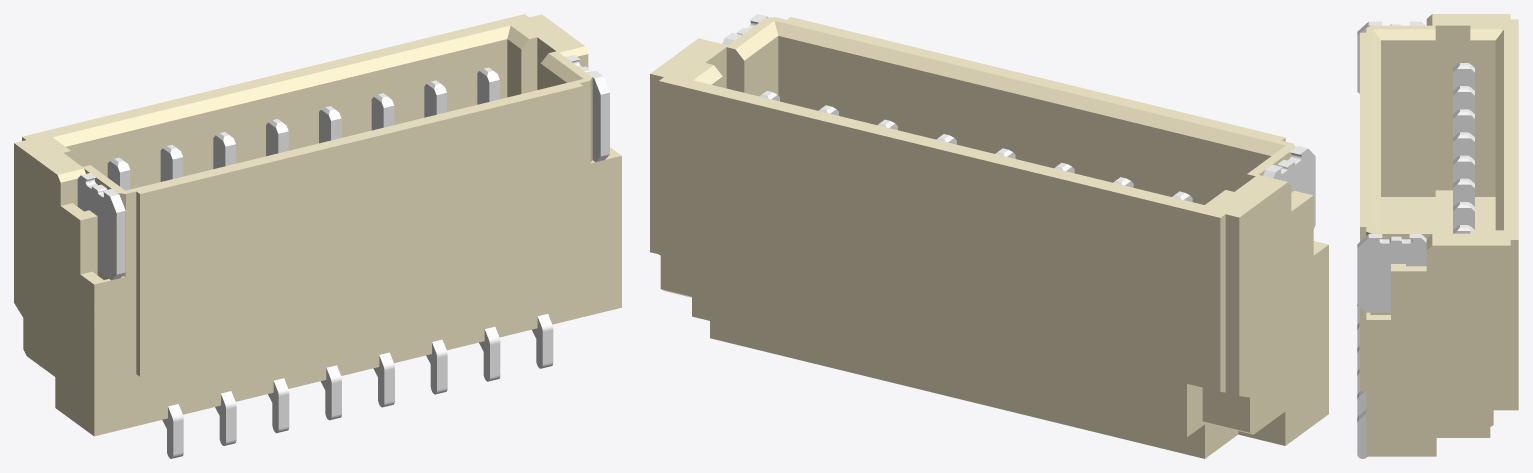
Rendered from sfe-jst_smd_1.0mm-8.glb.
The picture shows the model from 3 angles, left to right: view 1: azimuth 30°, elevation 25°; view 2: azimuth 150°, elevation 25°; view 3: azimuth 270°, elevation 25°; orthographic projection. The views are drawn at different scales.
Parts seen in each view (by area): view 1: 1_0.9166666666666666_0.6666666666666666_0, 1_1_1_0.85; view 2: 1_0.9166666666666666_0.6666666666666666_0, 1_1_1_0.85; view 3: 1_0.9166666666666666_0.6666666666666666_0, 1_1_1_0.85.
Part boxes in pixels (x1,y1,x2,y2): 1_0.9166666666666666_0.6666666666666666_0: (14,14,621,436); 1_1_1_0.85: (77,55,609,458); 1_0.9166666666666666_0.6666666666666666_0: (650,17,1328,458); 1_1_1_0.85: (722,14,1315,229); 1_0.9166666666666666_0.6666666666666666_0: (1360,14,1518,456); 1_1_1_0.85: (1357,21,1474,458).
Bounding box in the file's own units: 1 × 0.495 × 0.2949.
